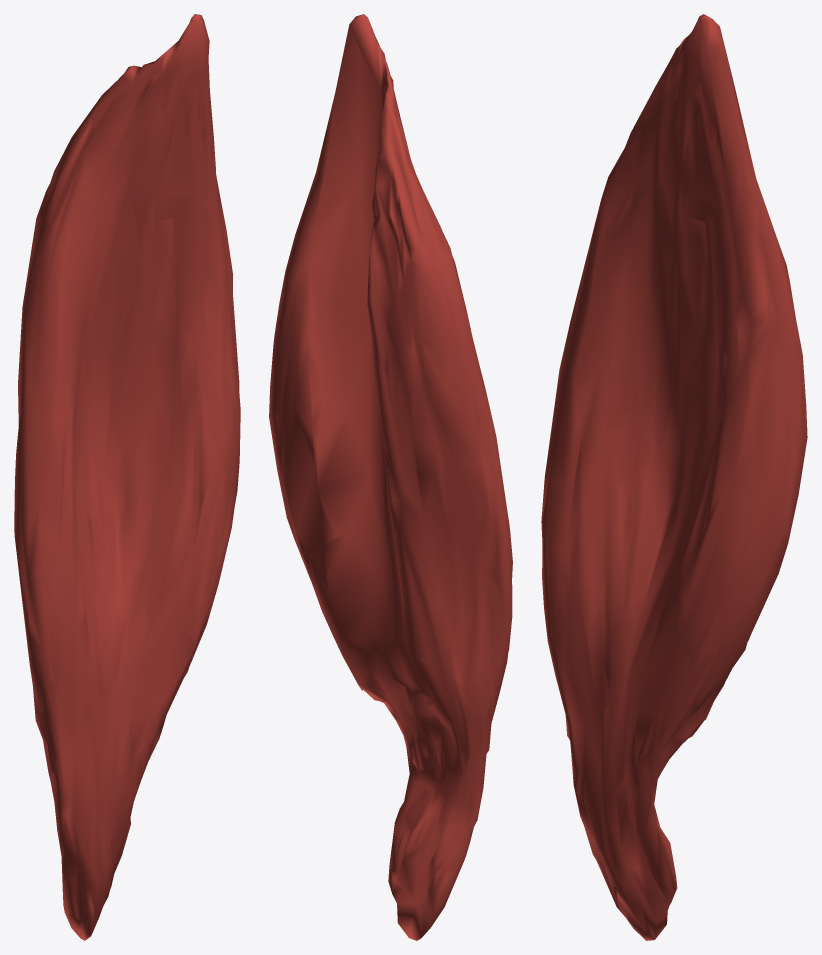
Rendered from musculos-brachialis-muscle-r.glb.
The picture shows the model from 3 angles, left to right: view 1: azimuth 30°, elevation 25°; view 2: azimuth 150°, elevation 25°; view 3: azimuth 330°, elevation 25°; orthographic projection. The views are drawn at different scales.
Visible parts, largest first — view 1: Brachialis muscle.r; view 2: Brachialis muscle.r; view 3: Brachialis muscle.r.
Part boxes in pixels (x1,y1,x2,y2): Brachialis muscle.r: (14, 14, 240, 940); Brachialis muscle.r: (269, 14, 512, 940); Brachialis muscle.r: (541, 14, 807, 940).
Bounding box in the file's own units: 0.0609 × 0.2323 × 0.0272.
